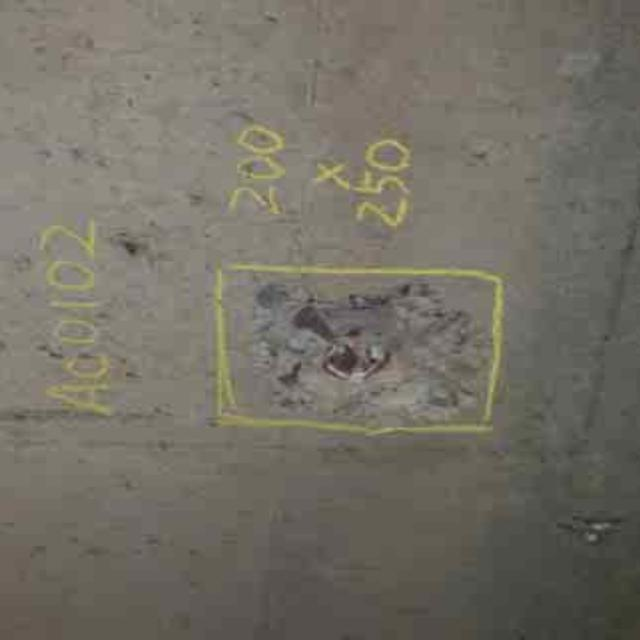spalling: (216, 253, 507, 434)
